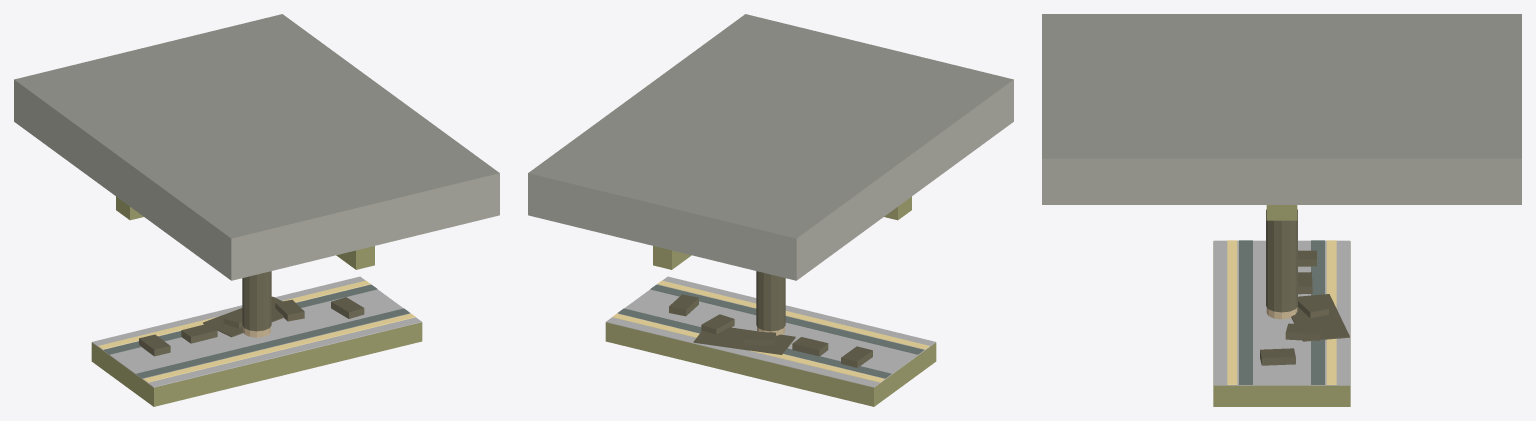
Rendered from SM_AndenLosa_Central_v4_Quemada_LOD0.fbx.
3 renders of one model, left to right at view 1: azimuth 30°, elevation 25°; view 2: azimuth 150°, elevation 25°; view 3: azimuth 270°, elevation 25°, orthographic. The views are drawn at different scales.
Parts seen in each view (by area): view 1: Losa, SM_anden_losa_v4_LOD0; view 2: Losa, SM_anden_losa_v4_LOD0; view 3: Losa, SM_anden_losa_v4_LOD0.
Boxes of the visible parts, x1,y1,x2,y2 form: Losa: (14,14,499,280); SM_anden_losa_v4_LOD0: (91,271,422,406); Losa: (528,14,1013,280); SM_anden_losa_v4_LOD0: (605,271,936,406); Losa: (1042,14,1521,220); SM_anden_losa_v4_LOD0: (1213,209,1350,406).
Size of the model in its own units: 9.98 by 8 by 14.
